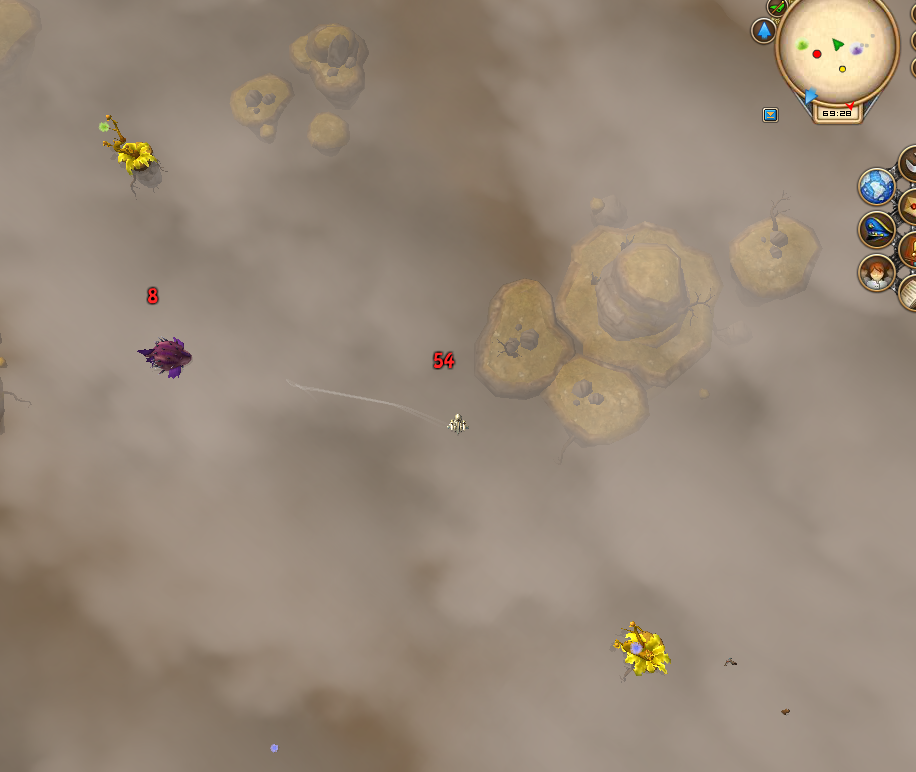dandelion-full: (93, 105, 171, 198), (609, 610, 675, 688)
fluff: (262, 735, 287, 761)
